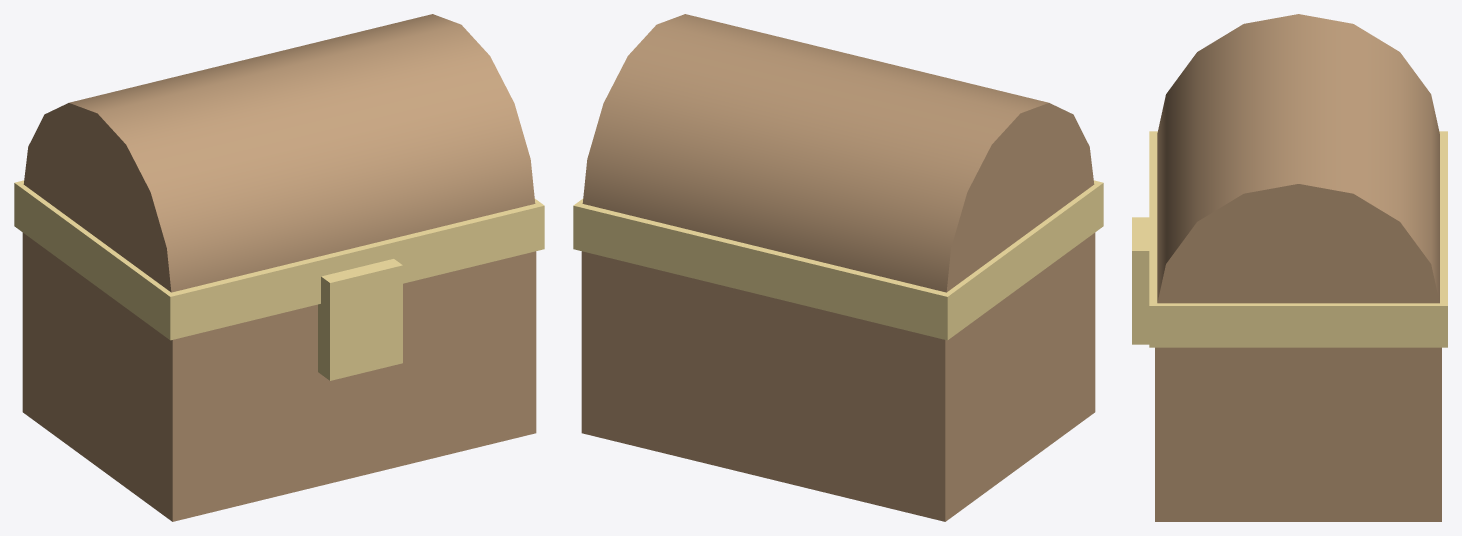
Rendered from chest_closed.glb.
The picture shows the model from 3 angles, left to right: view 1: azimuth 30°, elevation 25°; view 2: azimuth 150°, elevation 25°; view 3: azimuth 270°, elevation 25°; orthographic projection. The views are drawn at different scales.
Parts seen in each view (by area): view 1: chest_closed, lidPiv; view 2: chest_closed, lidPiv; view 3: lidPiv, chest_closed.
Boxes of the visible parts, x1,y1,x2,y2 form: chest_closed: (14, 180, 544, 521); lidPiv: (23, 14, 535, 292); chest_closed: (573, 180, 1103, 521); lidPiv: (582, 14, 1094, 292); lidPiv: (1157, 14, 1439, 303); chest_closed: (1132, 131, 1447, 521).
Size of the model in its own units: 0.72 by 0.65 by 0.55.
